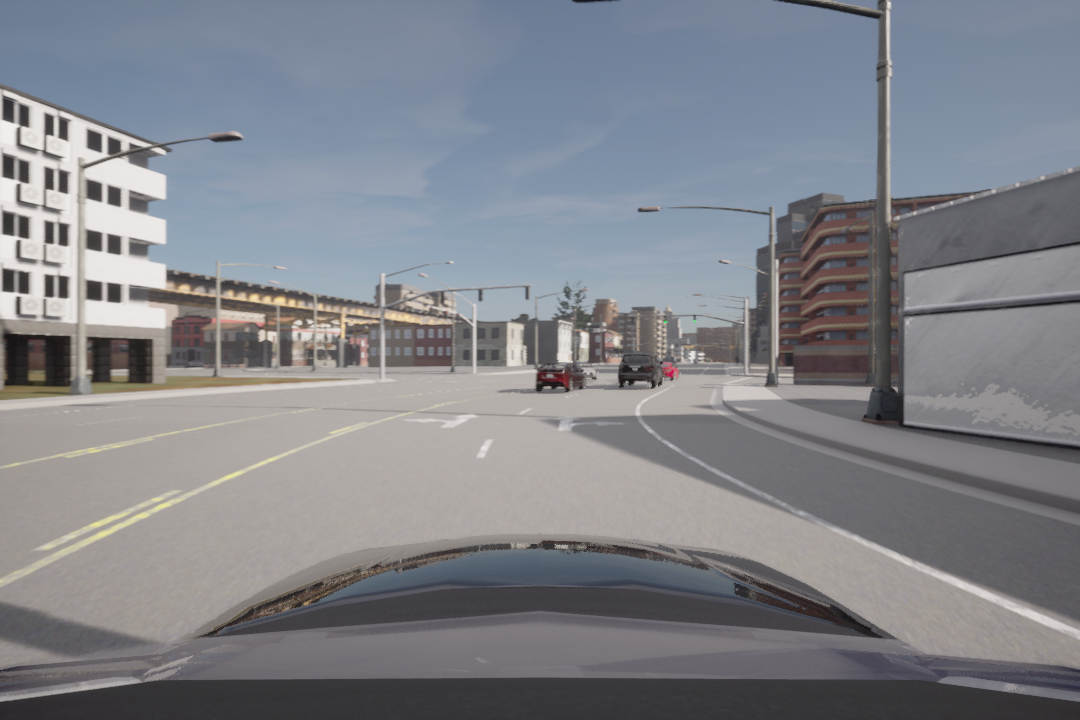RoadSign_forward_left: (397, 410, 484, 437)
RoadSign_forward_right: (542, 408, 632, 446)
